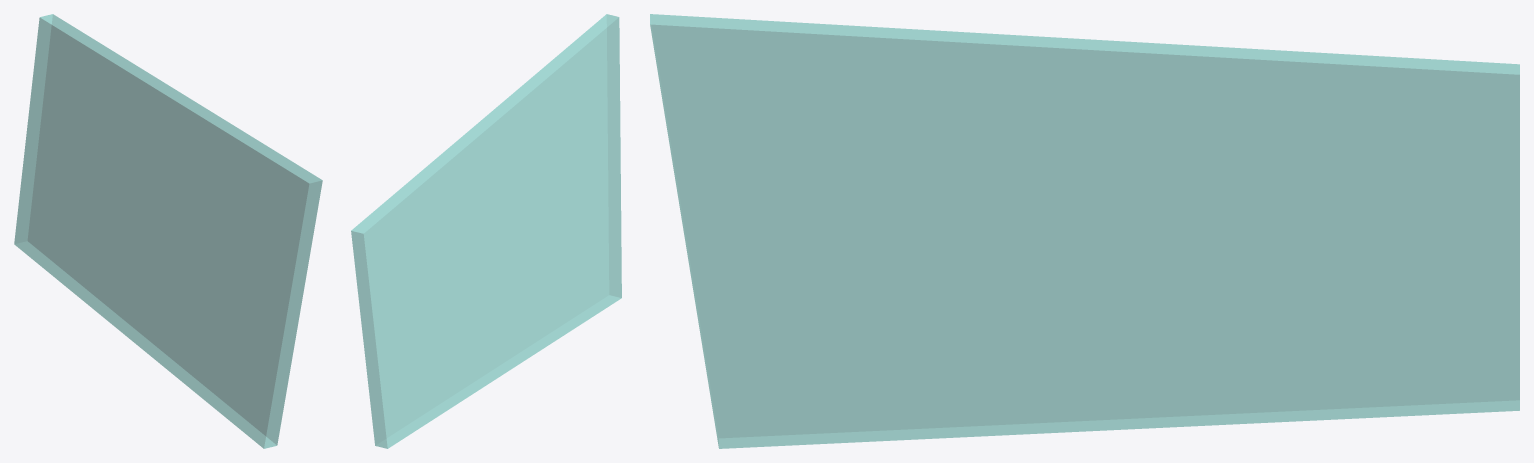
The model's file is doorrightwindow.fbx.
3 views of the same model, side by side, from view 1: azimuth 30°, elevation 25°; view 2: azimuth 150°, elevation 25°; view 3: azimuth 270°, elevation 25° (orthographic). The views are drawn at different scales.
Visible parts, largest first — view 1: Cube.060; view 2: Cube.060; view 3: Cube.060.
Boxes of the visible parts, box(x1,y1,x2,y2) form: Cube.060: box(14, 14, 322, 448); Cube.060: box(351, 14, 621, 448); Cube.060: box(650, 14, 1519, 448).
Size of the model in its own units: 4.8 by 32.53 by 57.85.
